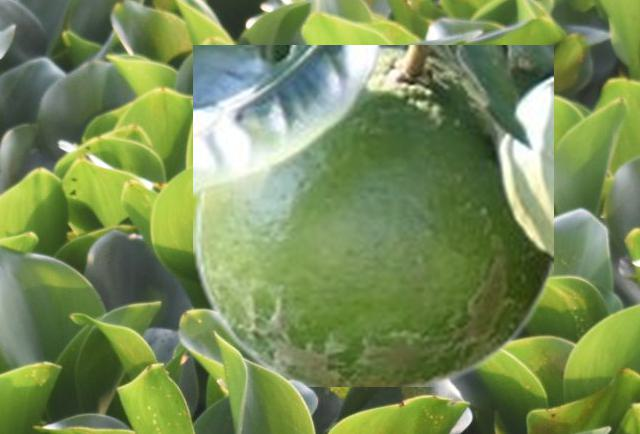dalandan: (193, 45, 552, 385)
